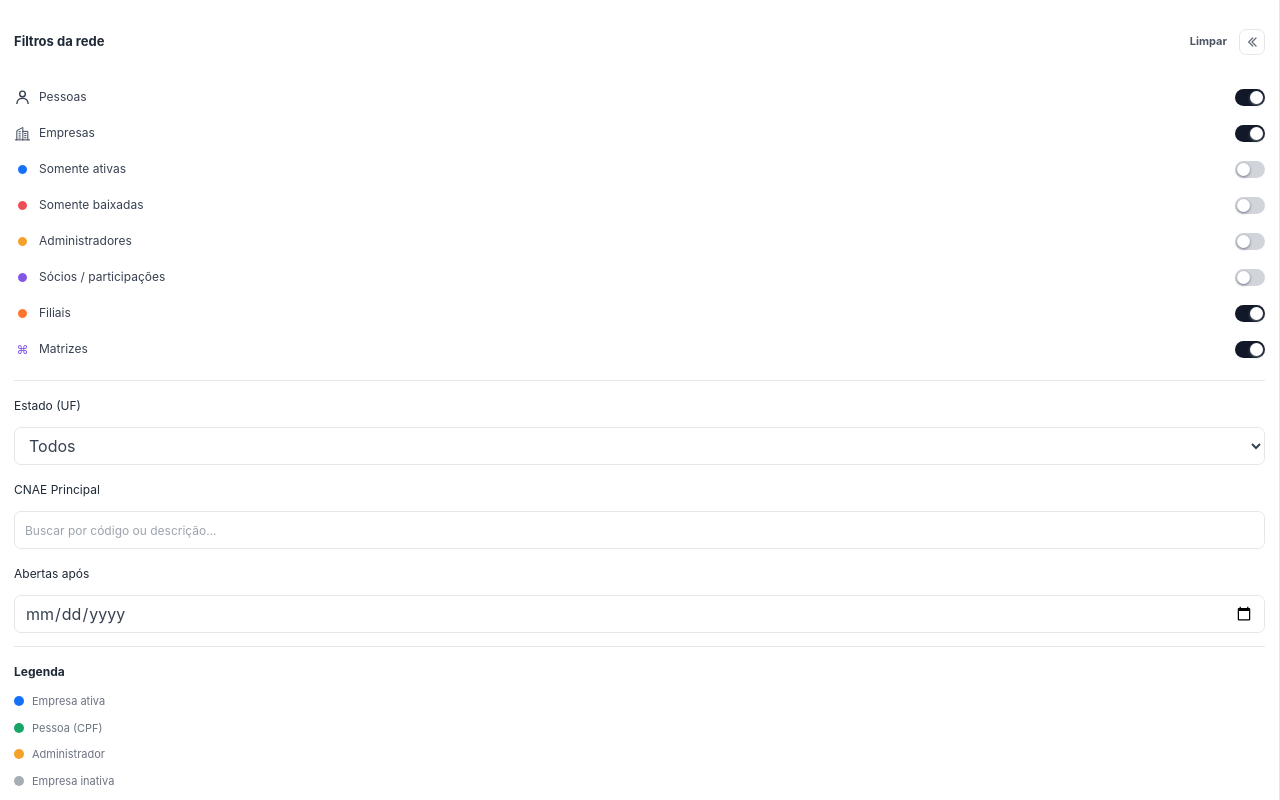
it: FiltersSidebar › busca de CNAE digitável › 3. digitar filtra os CNAEs por código ou descrição
Type "varejista" into the field named "Buscar CNAE" at (640, 530), box [14,511,1265,549]
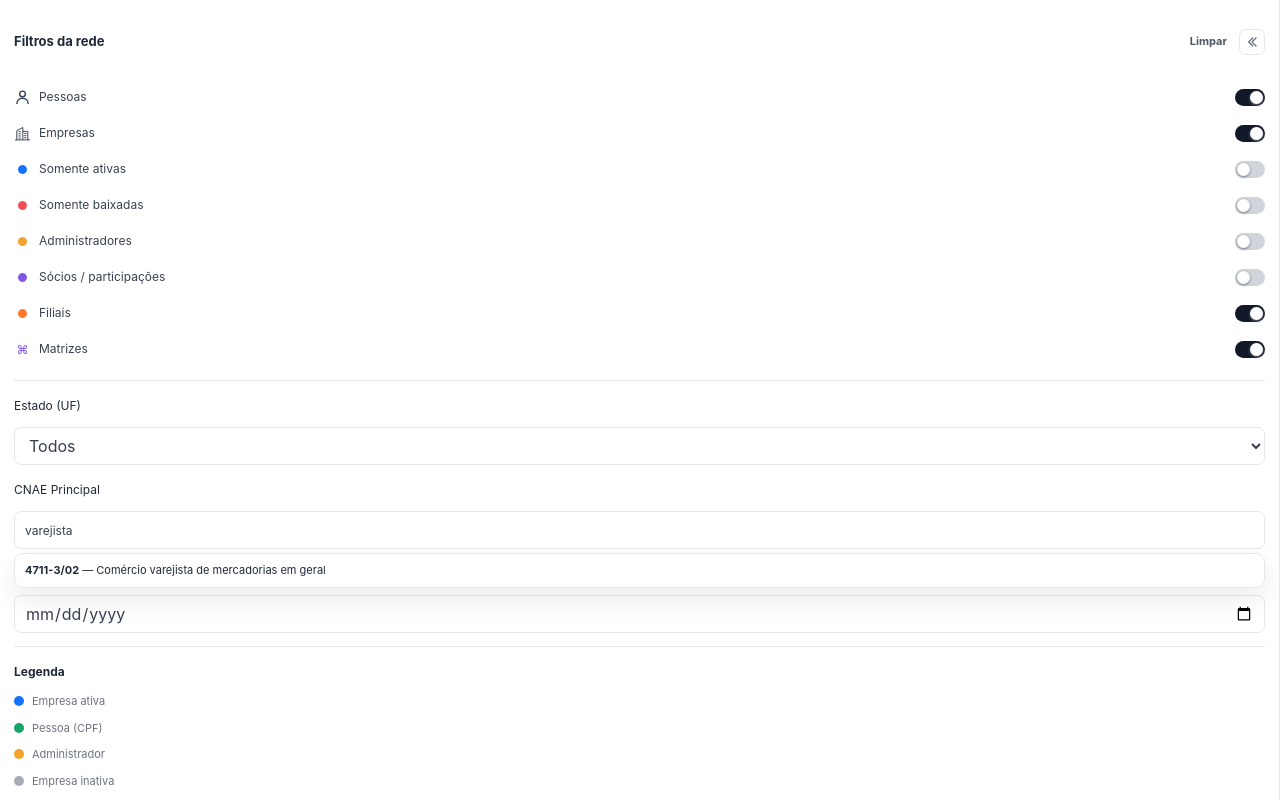
Now the button "4711-3/02 — Comércio varejista de mercadorias em geral" is shown, box [15,554,1264,586]
Now the button "Desenvolvimento de programas" is gone
